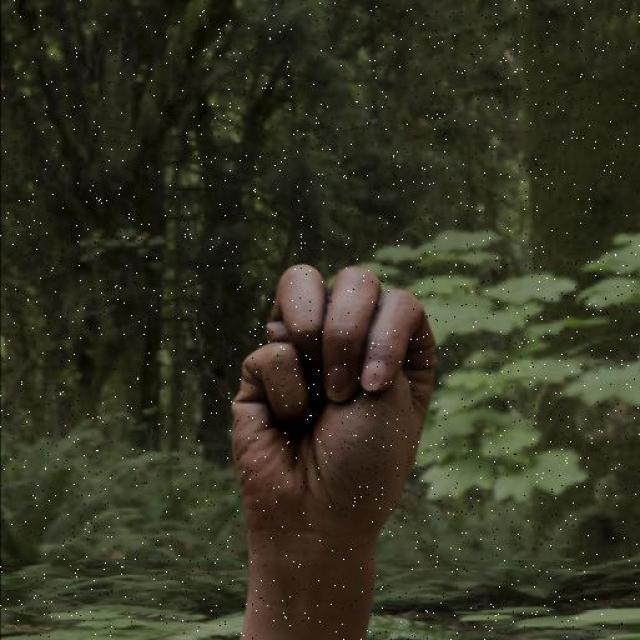M: (226, 263, 439, 536)
